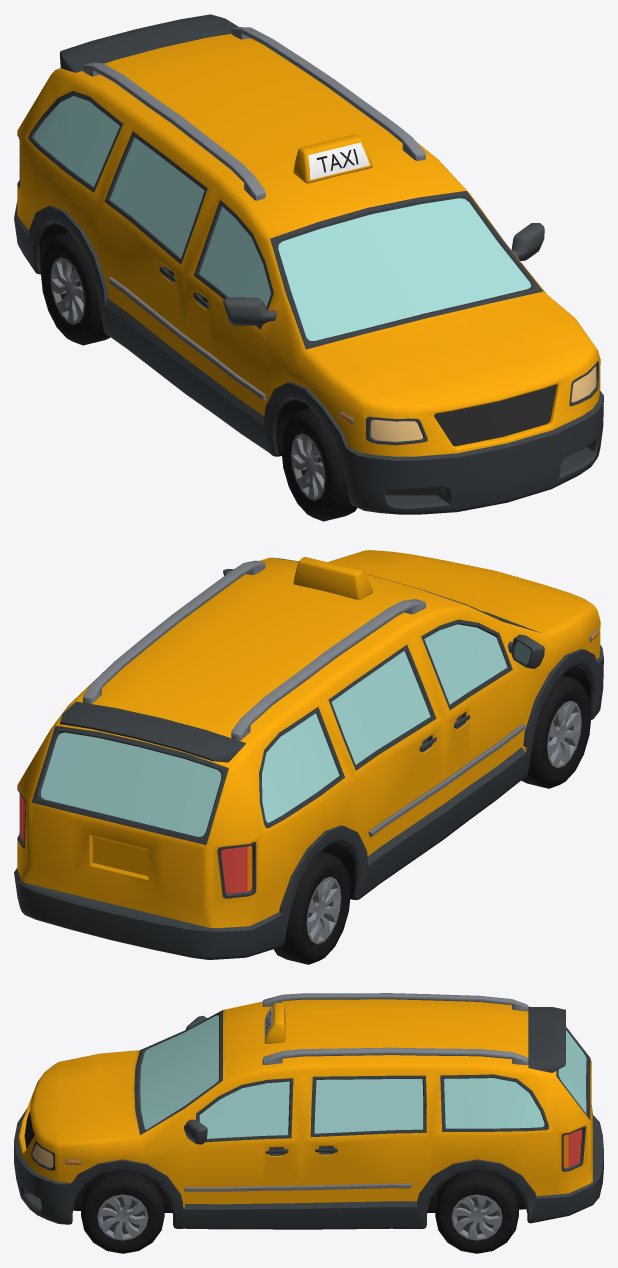
The model's file is SM_Vehicles_Taxi_02.fbx.
3 views of the same model, one above another, from view 1: azimuth 30°, elevation 25°; view 2: azimuth 150°, elevation 25°; view 3: azimuth 270°, elevation 25° (orthographic). The views are drawn at different scales.
Parts seen in each view (by area): view 1: SM_Vehicles_Taxi_02, SM_Vehicles_Taxi_02_FR, SM_Vehicles_Taxi_02_RR; view 2: SM_Vehicles_Taxi_02, SM_Vehicles_Taxi_02_RR, SM_Vehicles_Taxi_02_FR; view 3: SM_Vehicles_Taxi_02, SM_Vehicles_Taxi_02_FL, SM_Vehicles_Taxi_02_RL.
Part boxes in pixels (x1,y1,x2,y2): SM_Vehicles_Taxi_02: (14,14,603,514); SM_Vehicles_Taxi_02_FR: (281,408,356,521); SM_Vehicles_Taxi_02_RR: (40,232,110,345); SM_Vehicles_Taxi_02: (14,550,603,959); SM_Vehicles_Taxi_02_RR: (273,851,350,964); SM_Vehicles_Taxi_02_FR: (521,675,591,788); SM_Vehicles_Taxi_02: (14,993,603,1229); SM_Vehicles_Taxi_02_FL: (81,1170,164,1253); SM_Vehicles_Taxi_02_RL: (435,1171,518,1253).
Size of the model in its own units: 2.1 by 1.68 by 4.57.
